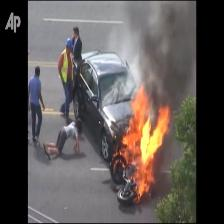fire: (113, 81, 175, 205)
smoke: (128, 0, 193, 72)
